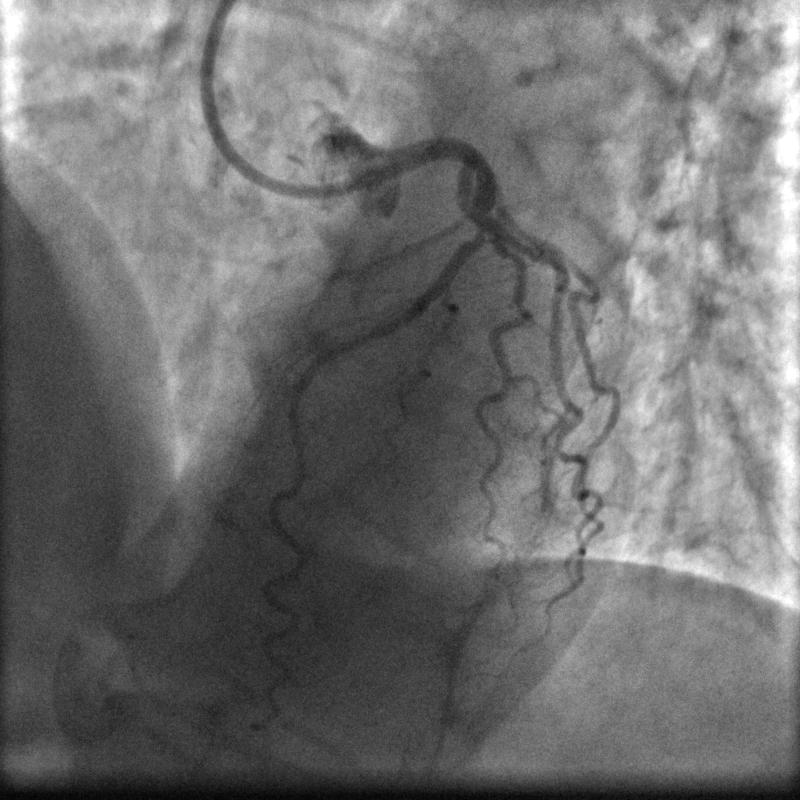Stenosis: (472, 224, 487, 247)
